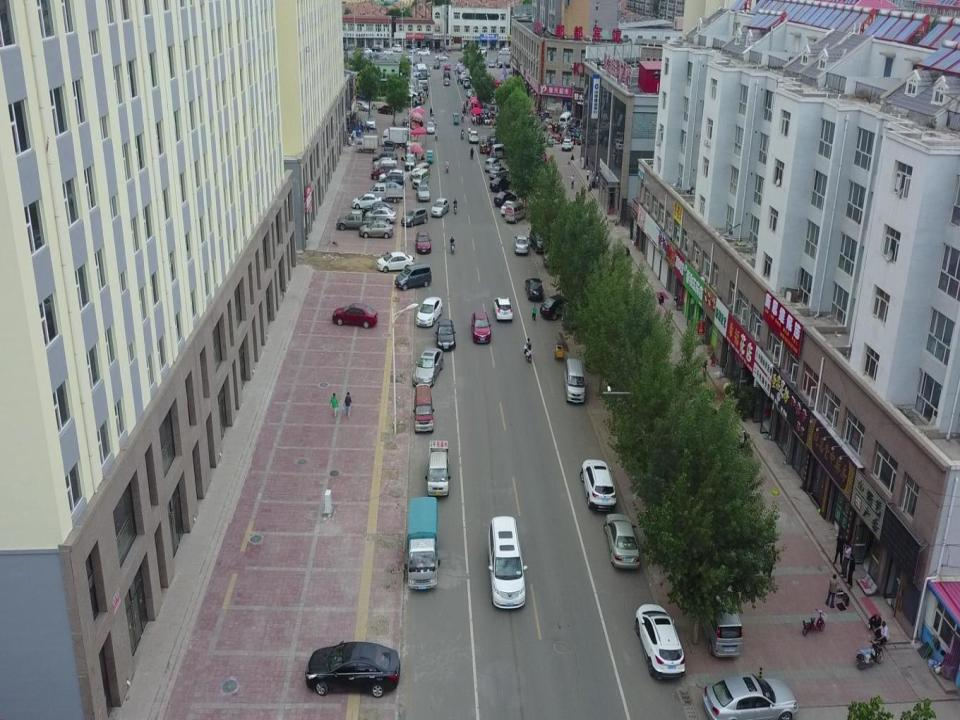car: (300, 641, 405, 699), (702, 674, 798, 720), (634, 600, 686, 682), (602, 512, 642, 568), (580, 458, 618, 510), (412, 345, 443, 386), (332, 302, 378, 328), (415, 296, 445, 326), (375, 252, 416, 272), (434, 317, 456, 352), (471, 308, 492, 342), (358, 220, 394, 238), (492, 294, 514, 321), (366, 208, 396, 225), (362, 202, 392, 219), (524, 276, 545, 300), (352, 193, 383, 209), (402, 208, 428, 227), (378, 174, 406, 191), (378, 170, 405, 187), (414, 229, 432, 254), (372, 150, 398, 166), (430, 197, 450, 217), (372, 166, 398, 180), (373, 159, 399, 173), (372, 156, 398, 170), (500, 200, 524, 214), (489, 176, 513, 190), (493, 191, 516, 205), (514, 232, 530, 252), (489, 166, 513, 178), (484, 156, 502, 172), (416, 184, 430, 200), (424, 118, 438, 132), (356, 100, 371, 112), (378, 103, 393, 114), (364, 114, 376, 127), (562, 138, 573, 150)
truck: (404, 494, 442, 593), (336, 210, 376, 230), (369, 184, 403, 204), (380, 126, 407, 146), (356, 136, 378, 153), (403, 154, 416, 168)
van: (485, 514, 530, 608), (702, 595, 742, 658), (424, 436, 448, 499), (412, 381, 436, 432), (563, 358, 587, 404), (395, 262, 432, 290), (539, 294, 575, 320), (503, 201, 526, 224), (492, 144, 518, 159), (409, 161, 430, 179), (412, 169, 429, 189)
